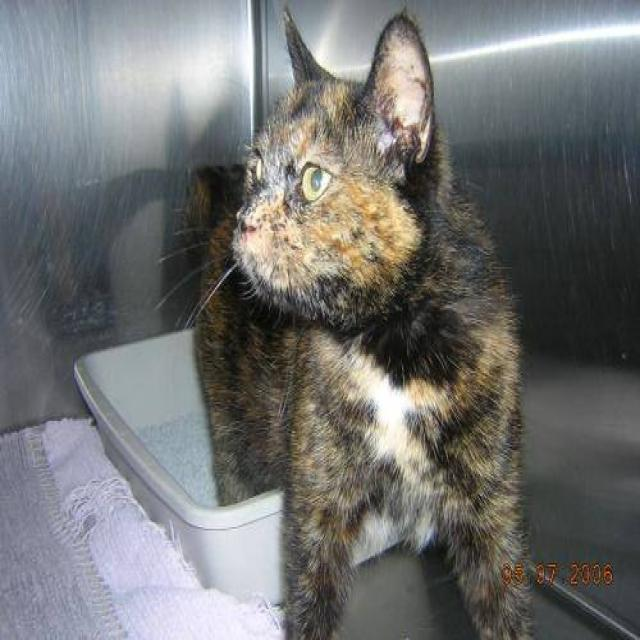cat: (156, 4, 538, 638)
